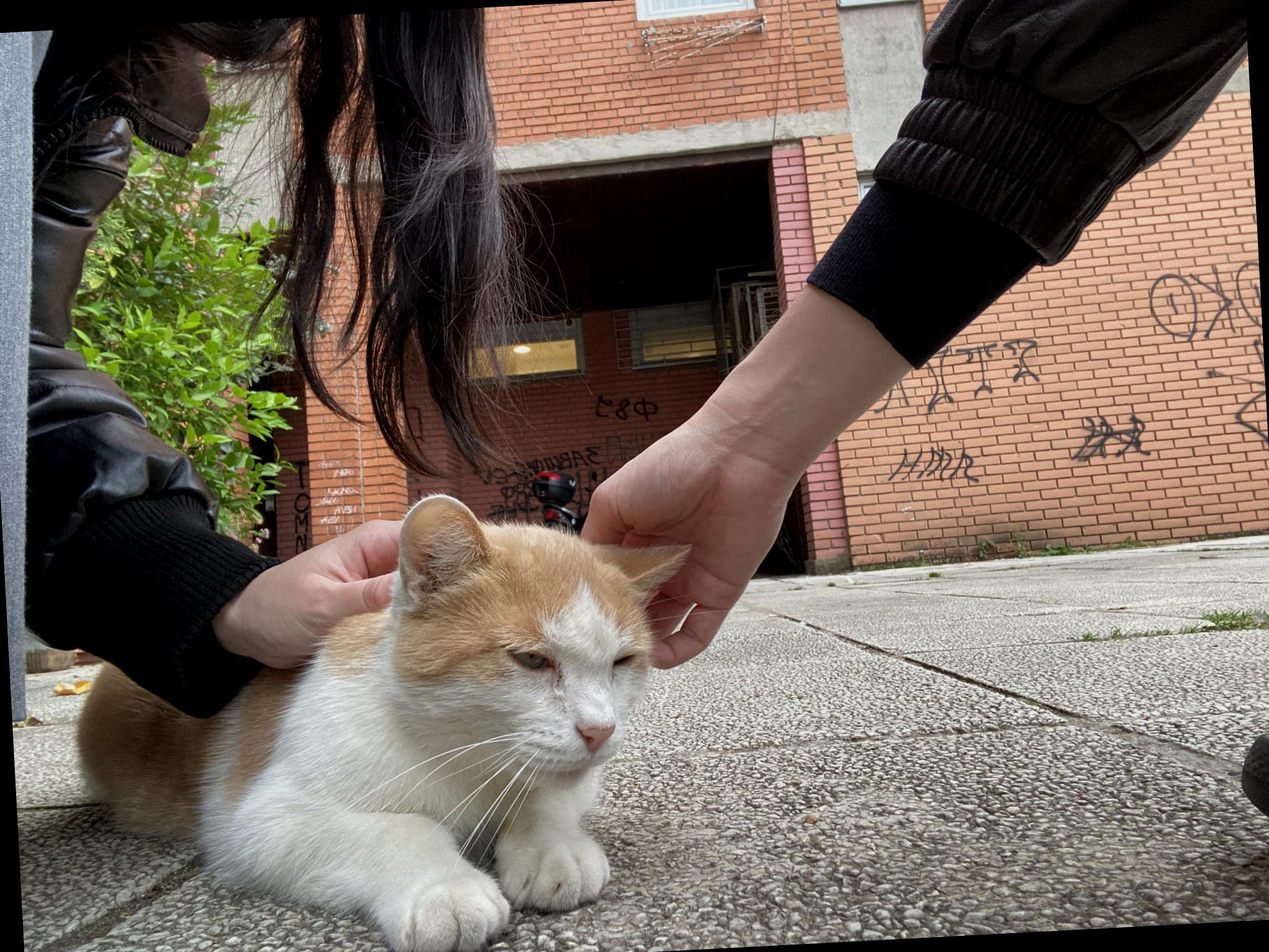macka: (62, 480, 717, 952)
